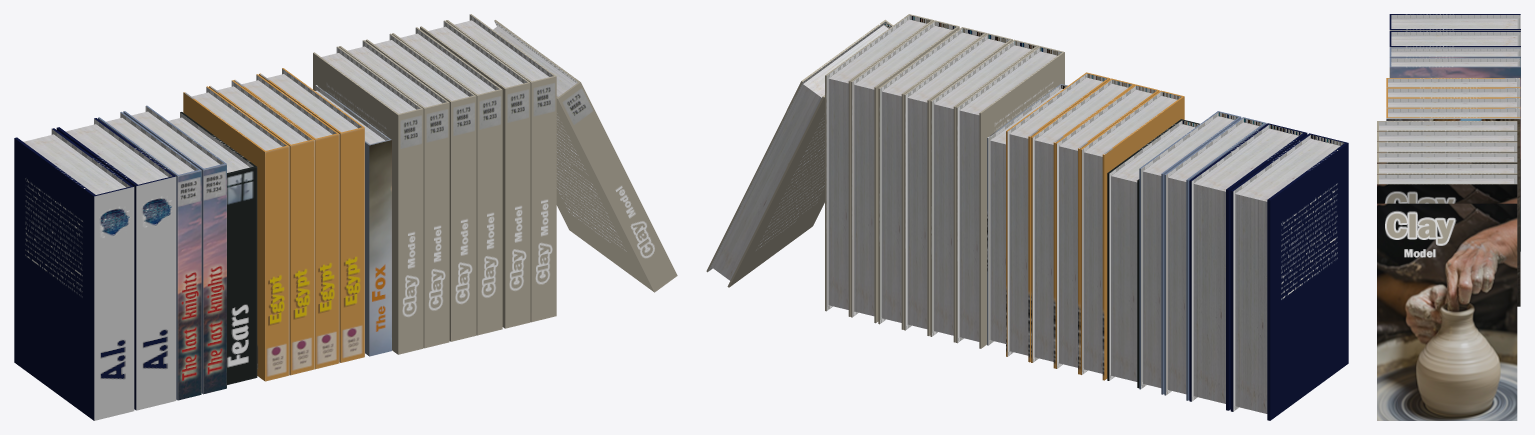
The model's file is Books 8.FBX.
The picture shows the model from 3 angles, left to right: view 1: azimuth 30°, elevation 25°; view 2: azimuth 150°, elevation 25°; view 3: azimuth 270°, elevation 25°; orthographic projection. The views are drawn at different scales.
Parts seen in each view (by area): view 1: Books 8; view 2: Books 8; view 3: Books 8.
Boxes of the visible parts, left/top/right/bottom form: Books 8: left=14, top=14, right=677, bottom=420; Books 8: left=706, top=14, right=1348, bottom=420; Books 8: left=1377, top=14, right=1520, bottom=420.
Bounding box in the file's own units: 68.75 × 27.39 × 18.11.
1 material, 1 textured.
